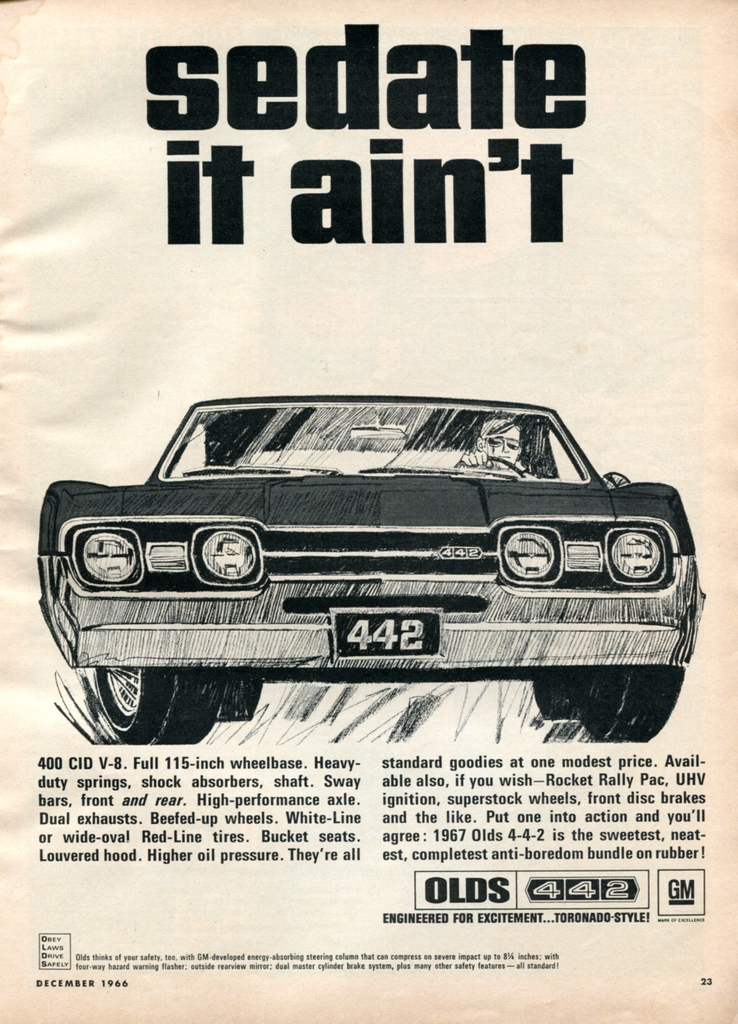Car: (34, 398, 704, 746)
